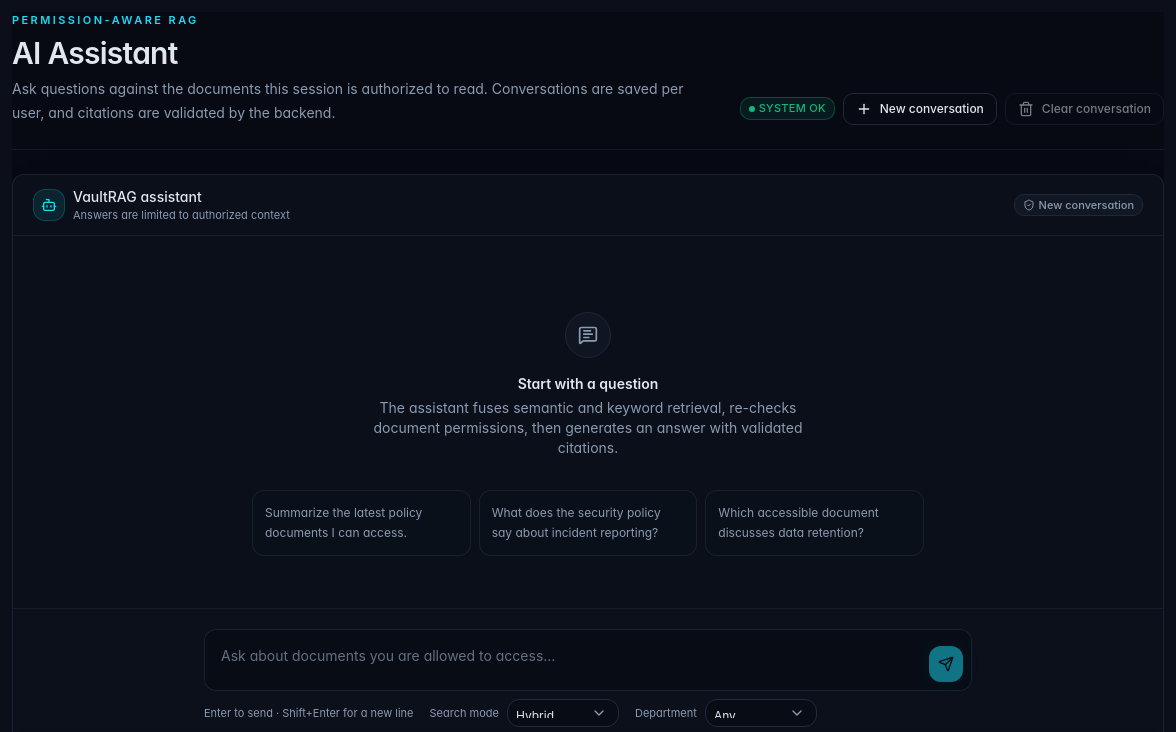
Test: ChatPage › shows backend failures in the conversation and offers a retry
Type "What does the security policy say about incident reporting?" into the text box named "Question".
click(567, 660); type("What does the security policy say about incident reporting?")  # box [213,638,921,682]
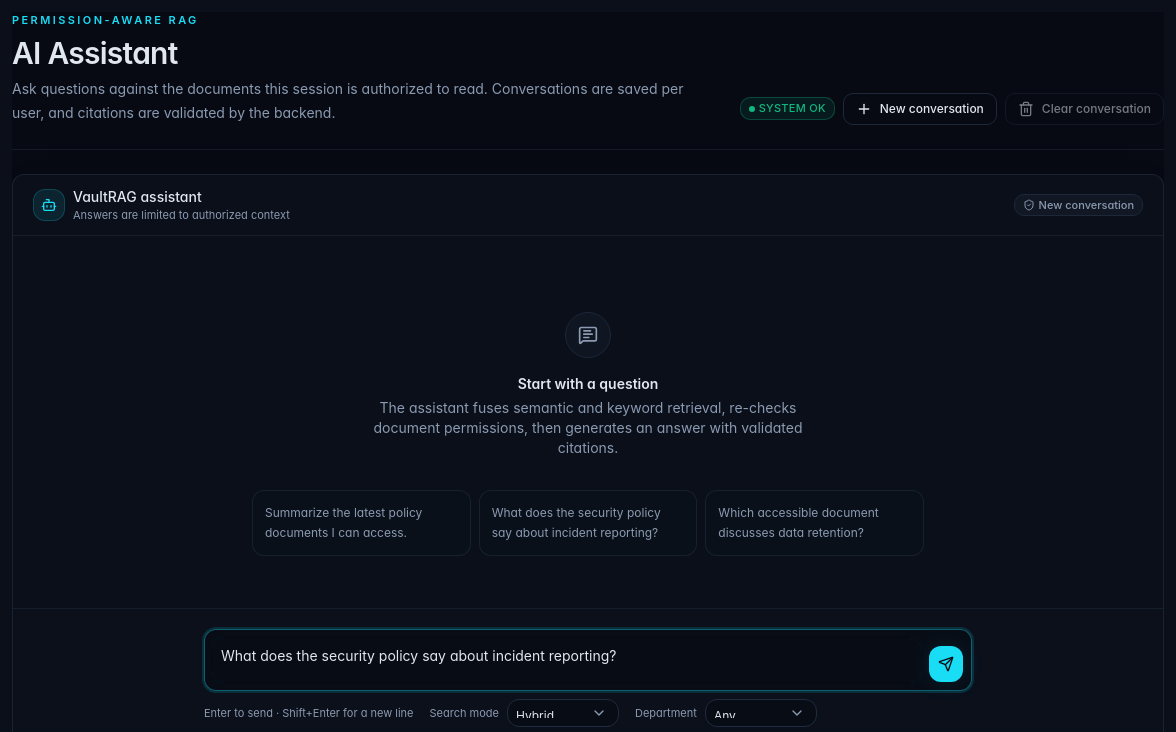
Click the button named "Send question".
click(946, 664)  # box [929,646,963,682]
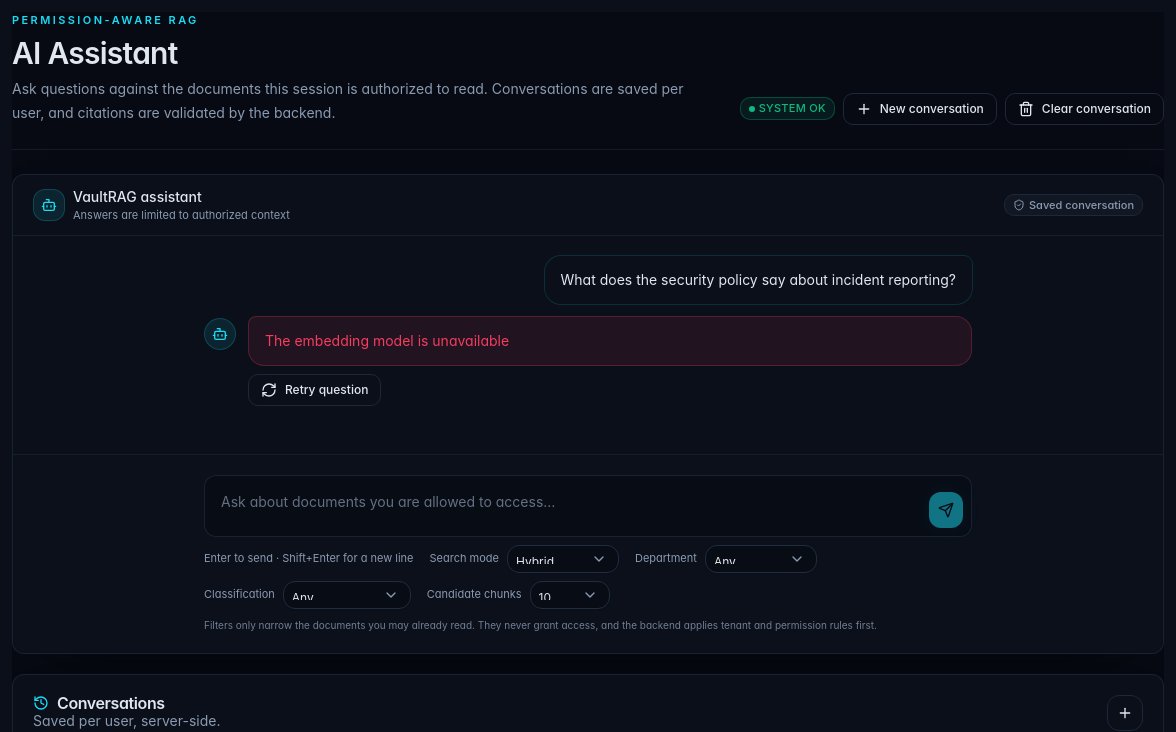
Check: the text "The embedding model is unavailable" is shown, box [248,316,972,366]
Check: the button "Retry question" is shown, box [248,374,381,406]
Check: the button named "Send question" is disabled, box [929,492,963,528]
